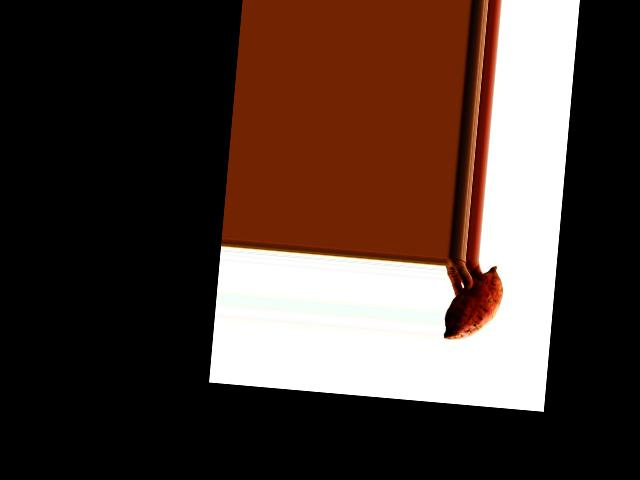sweet_potato: (441, 265, 509, 345)
